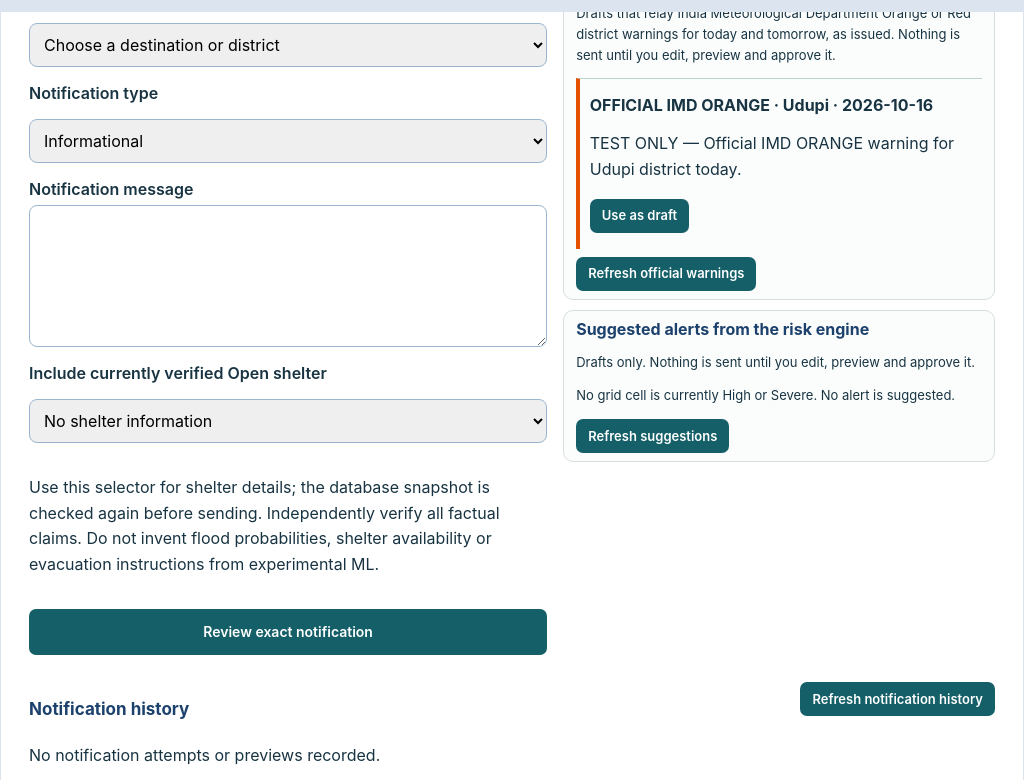
it: a lost send response leaves uncertain state and no repeat-send button
(page scrolled)
Expected: the text "No notification attempts or previews recorded." is shown, [29, 745, 380, 765]
Select "Private test — private test only" in the dropdown labelled "Telegram destination" at (288, 45), box [29, 23, 547, 67]
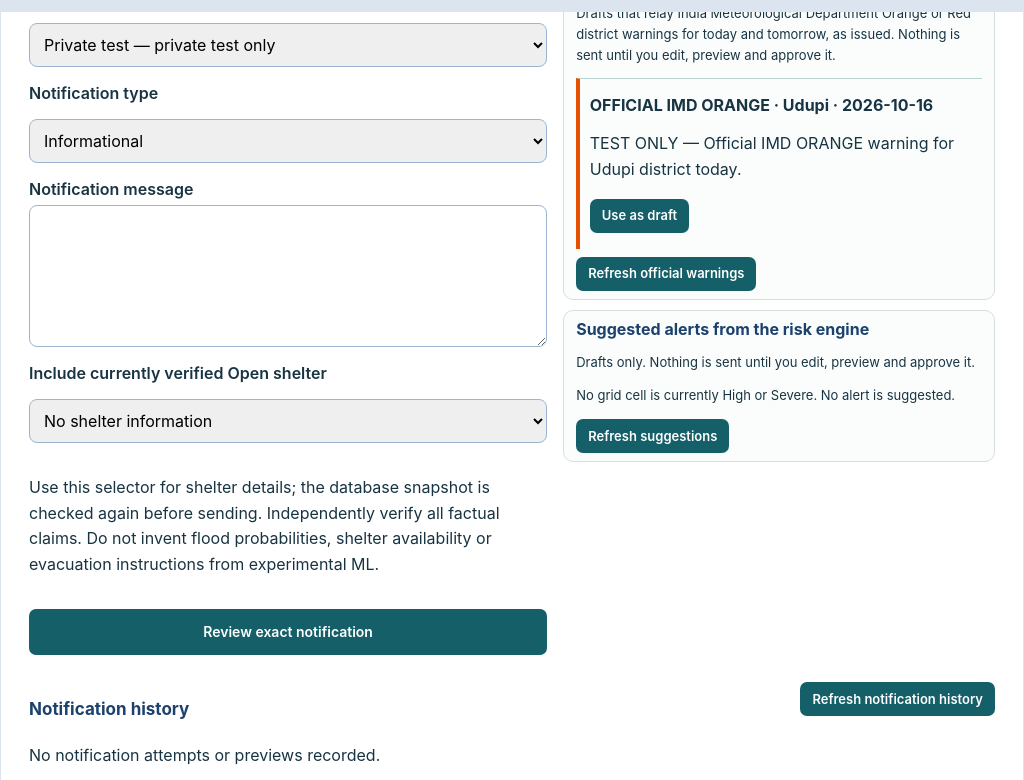
Type "Isolated test notice" into the text box labelled "Notification message" at (288, 276), box [29, 205, 547, 347]
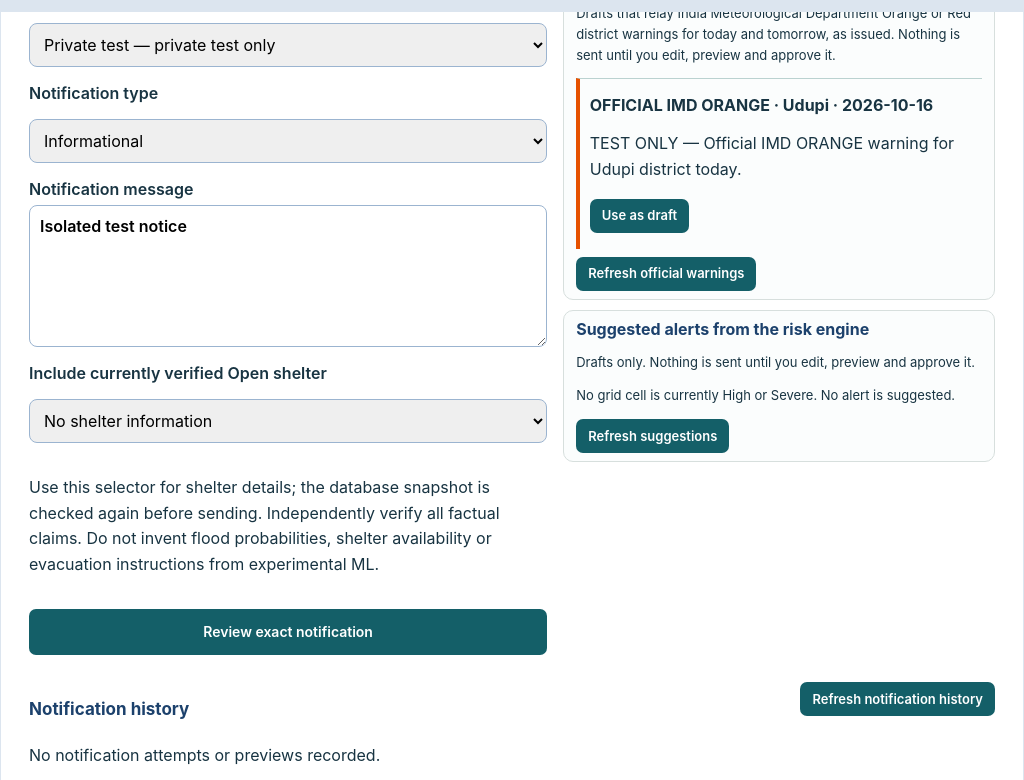
Click the button "Review exact notification" at (288, 632), box [29, 609, 547, 655]
(page scrolled)
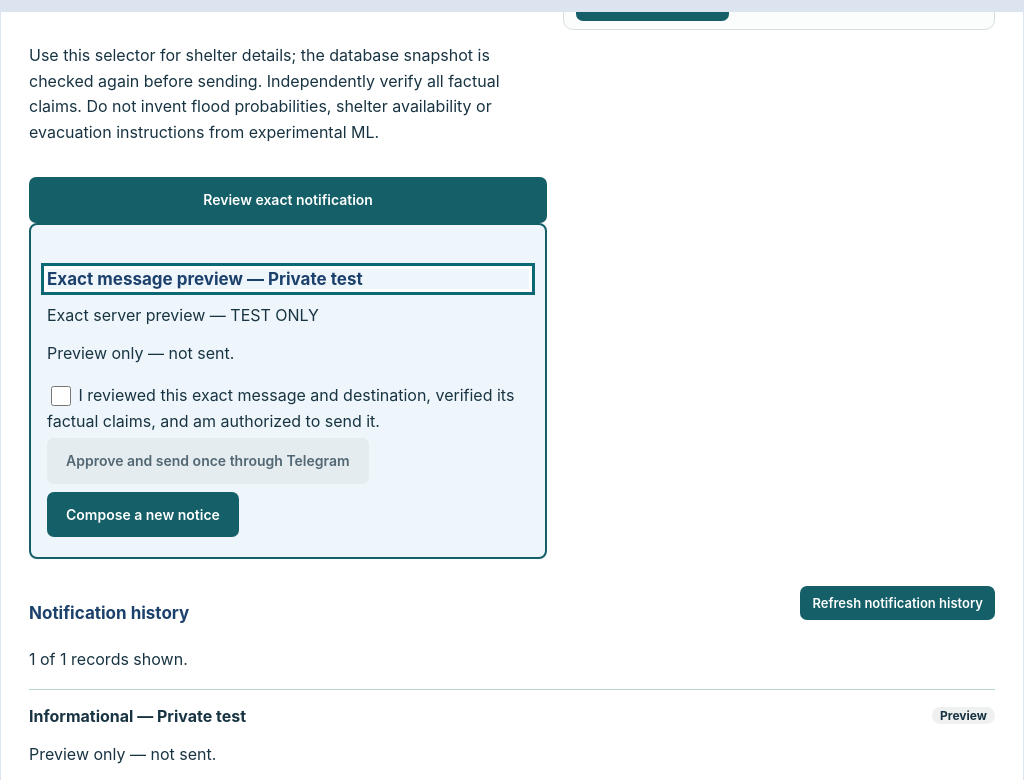
Result: the heading "Exact message preview — Private test" is shown at [47, 269, 529, 289]
Click the checkbox at (61, 396), box [51, 386, 71, 406]
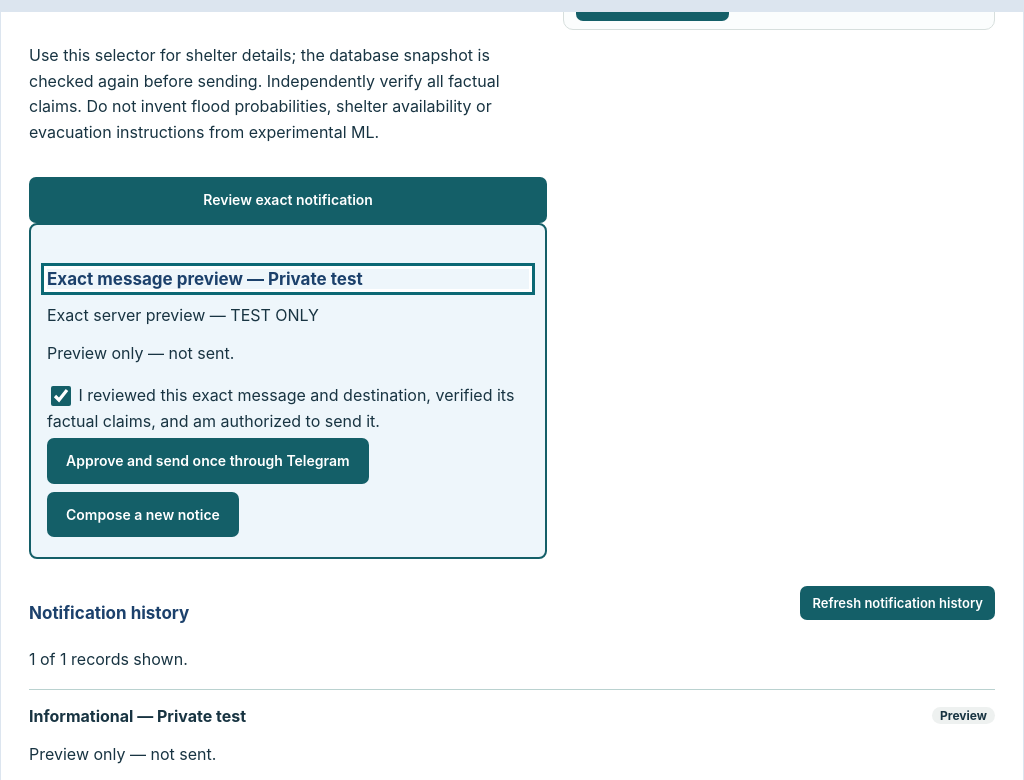
Click the button "Approve and send once through Telegram" at (208, 461), box [47, 438, 369, 484]
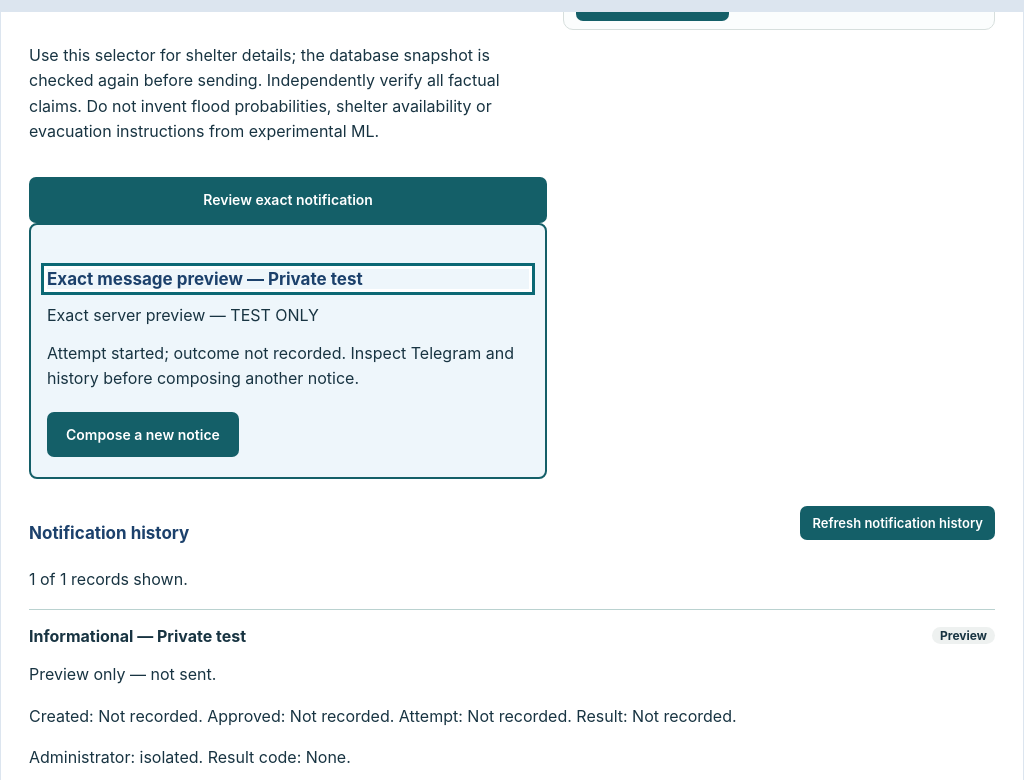
Result: the text "outcome not recorded" is shown at [47, 342, 514, 388]
Result: the button "Approve and send once through Telegram" is gone
